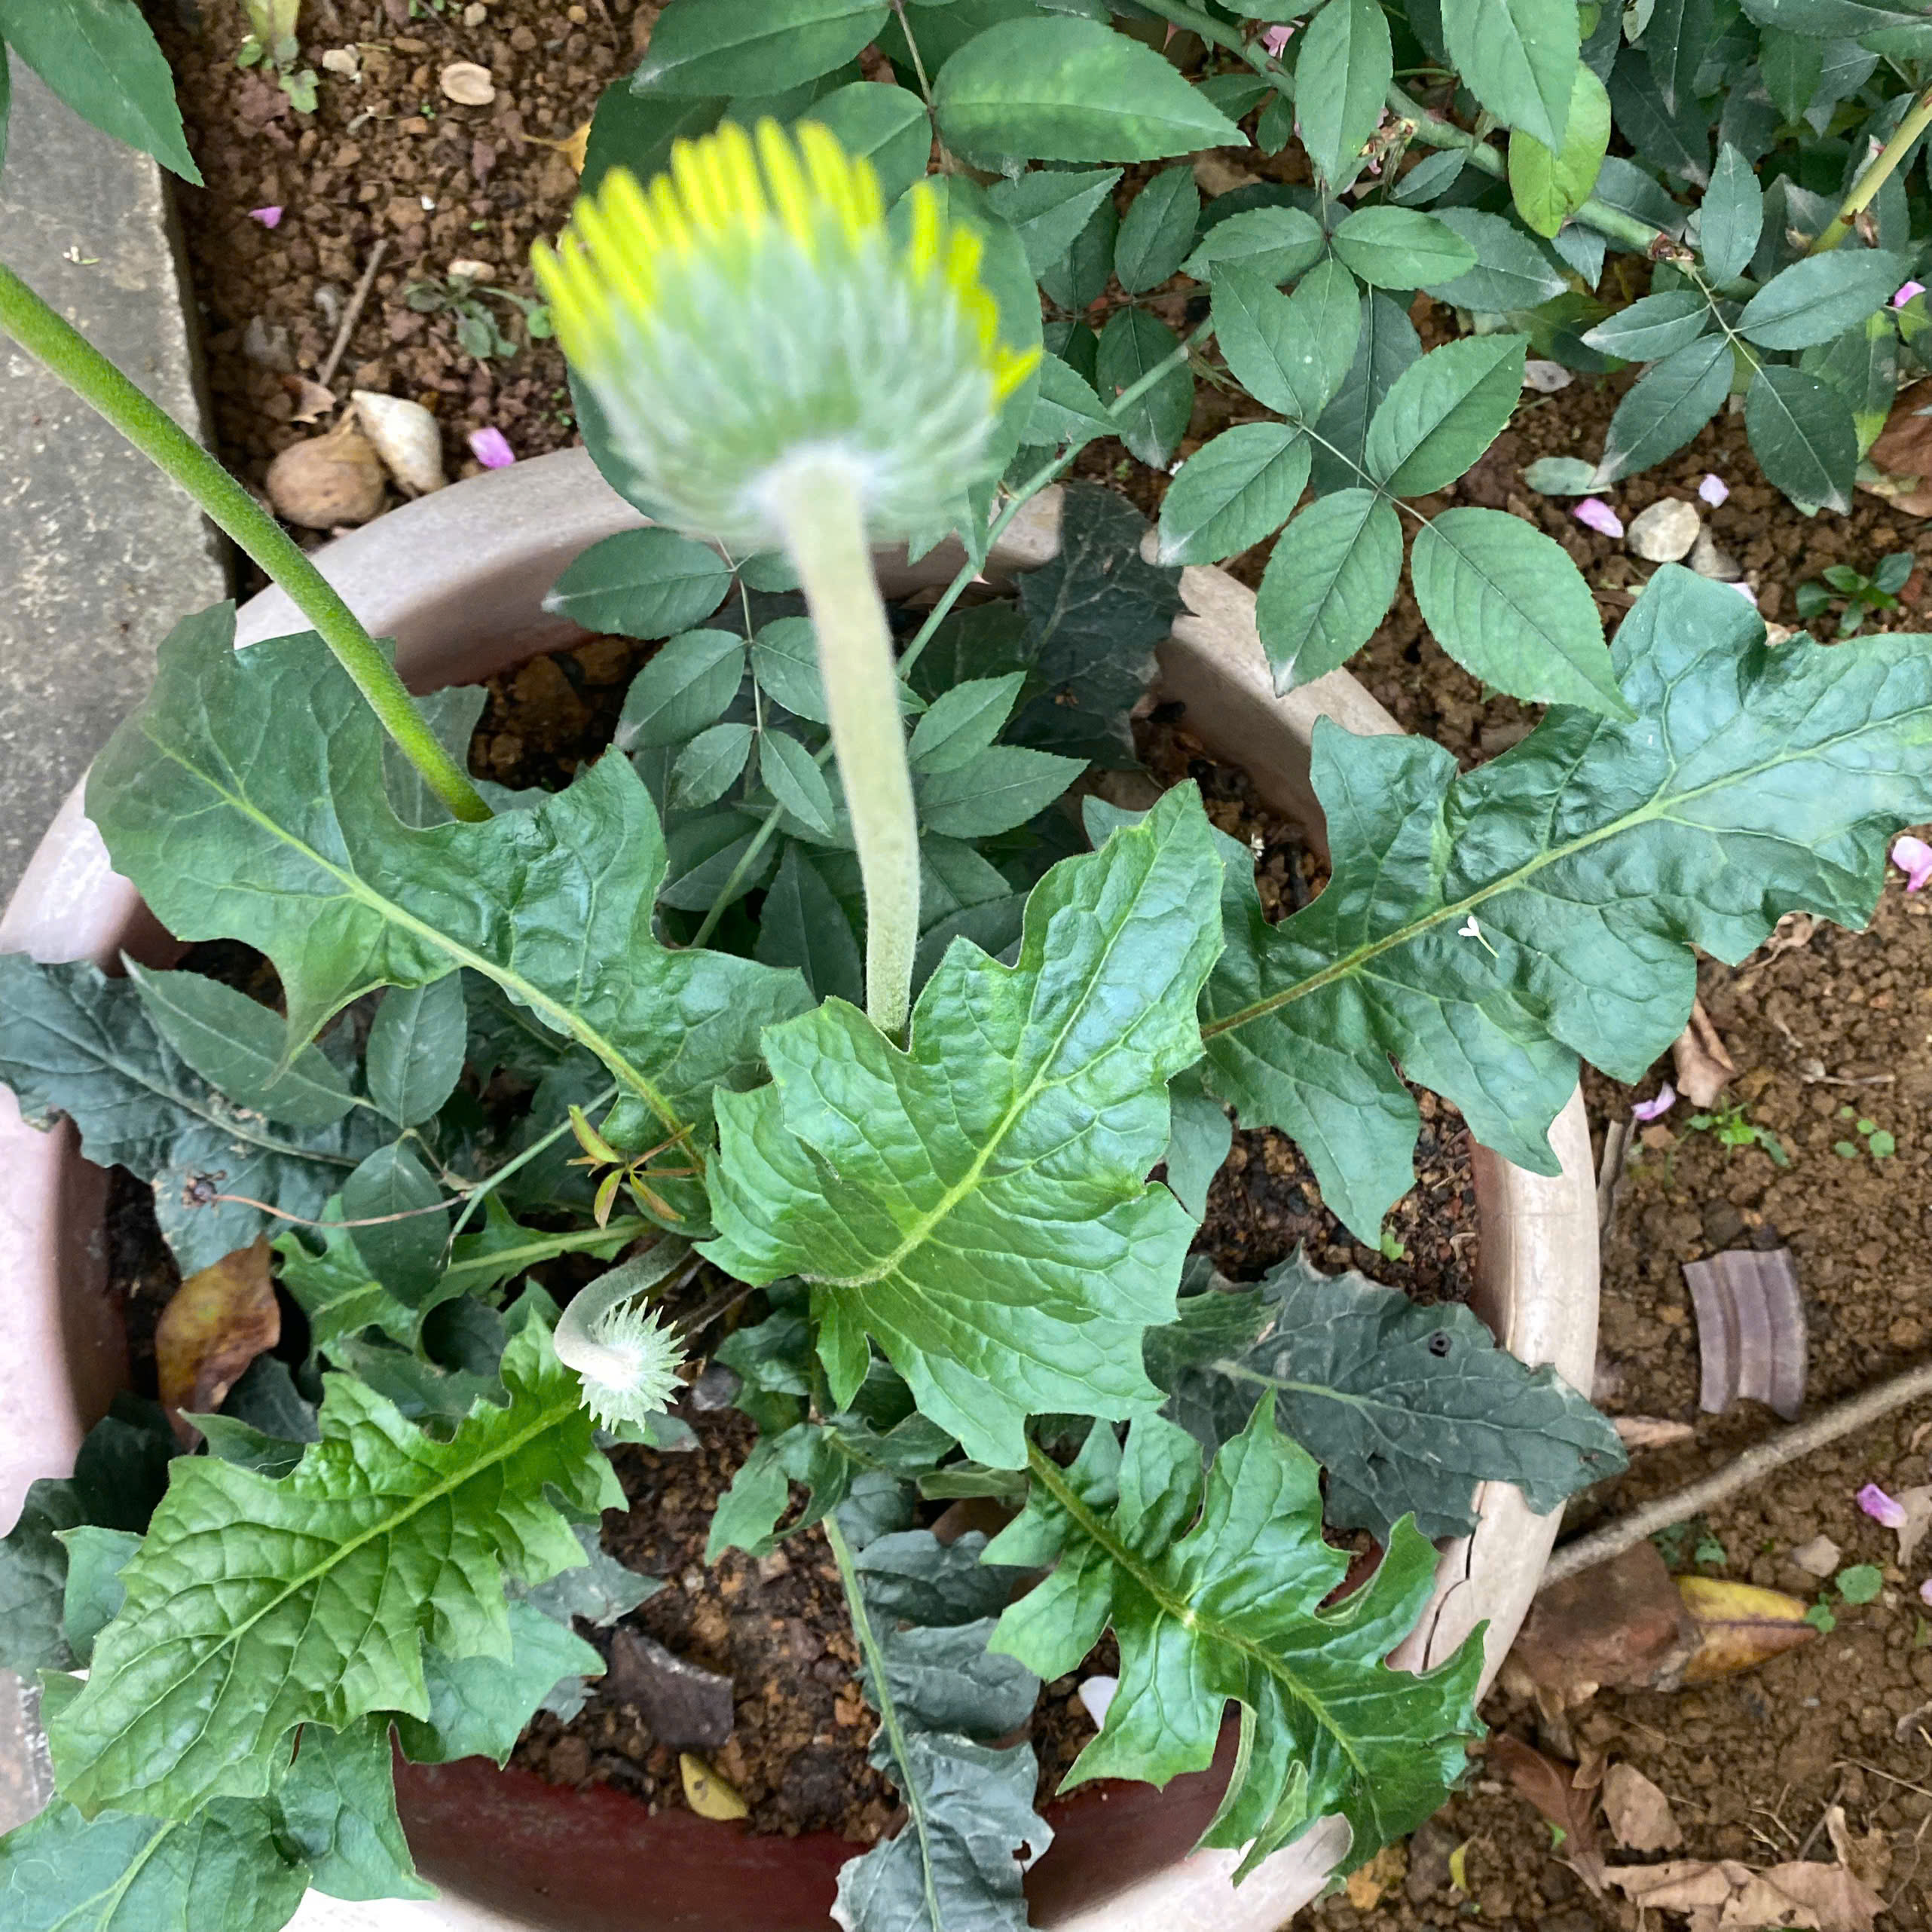hoa_huong_duong: (30, 87, 1769, 1851)
